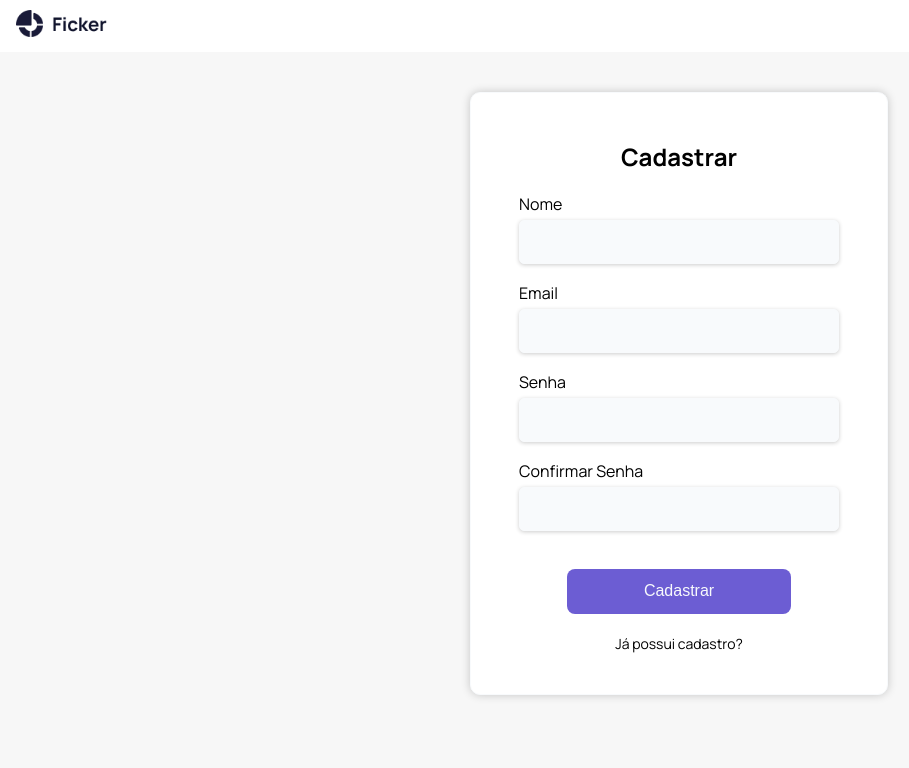
Test case: Create Account page › The password should be equal
Type "teste" into the field labelled "Nome" at (679, 242), box [519, 220, 839, 264]
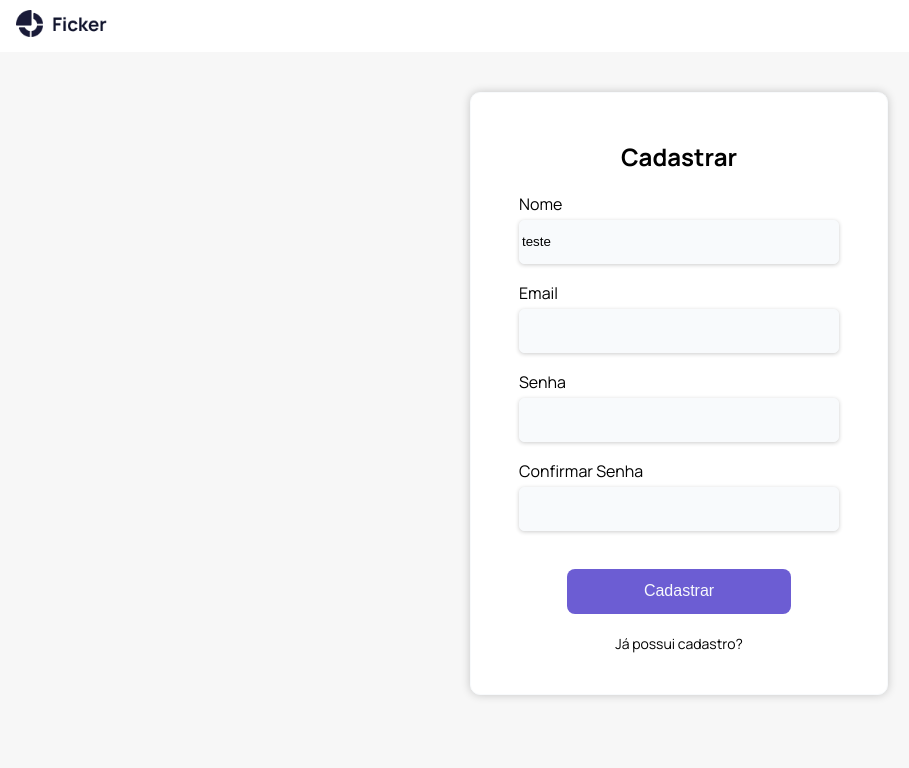
Type "teste@teste.com" into the field labelled "Email" at (679, 331), box [519, 309, 839, 353]
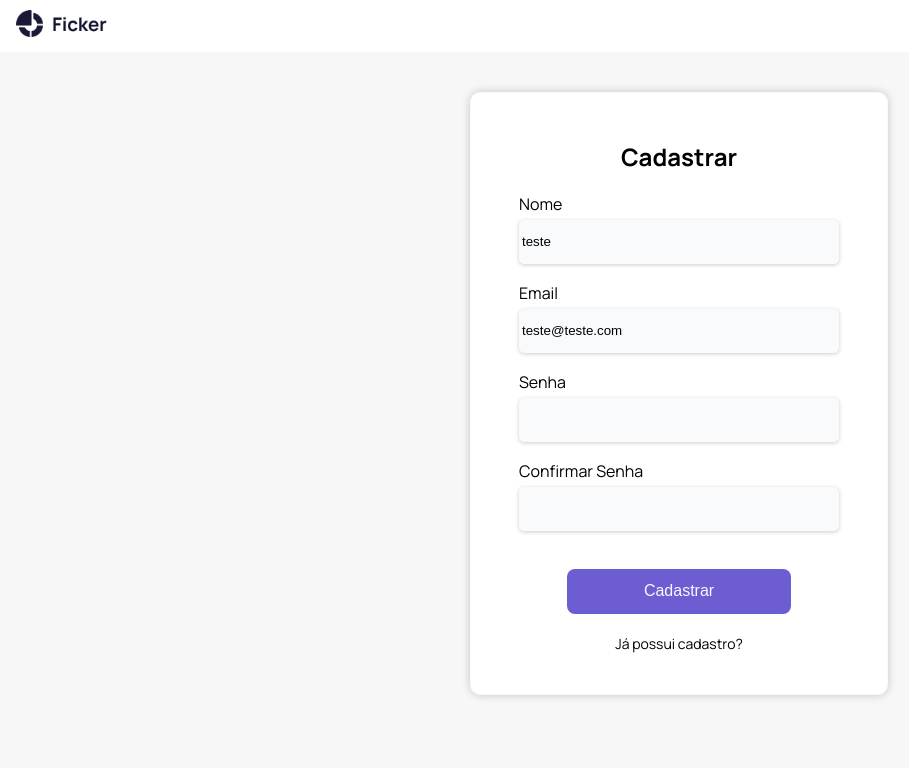
Type "1234" into the password field labelled "Senha" at (679, 420), box [519, 398, 839, 442]
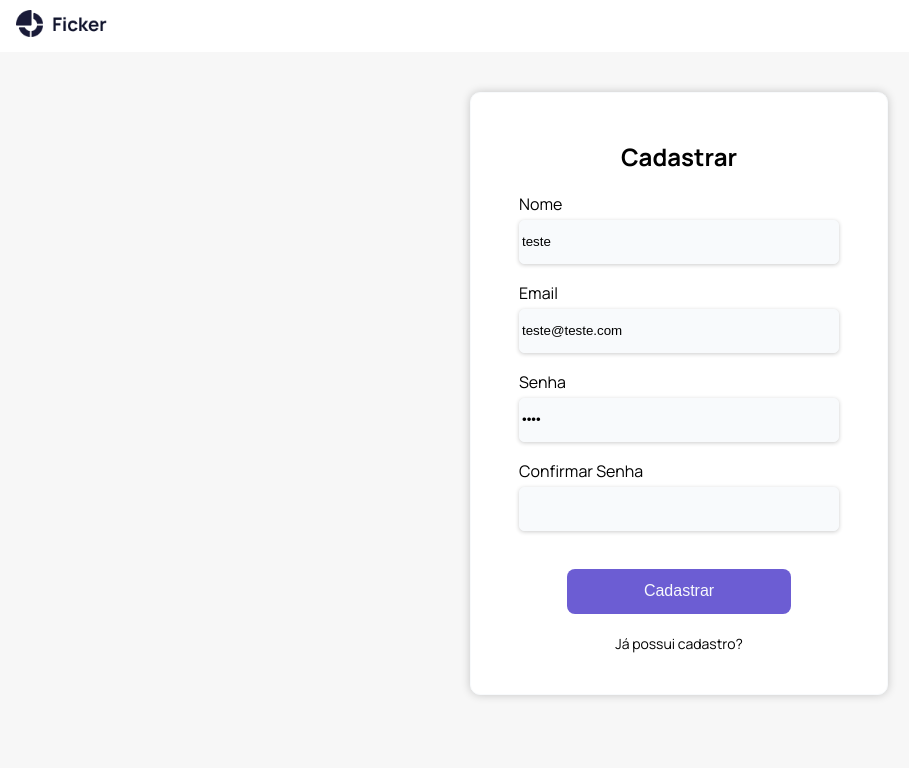
Type "1235" into the password field labelled "Confirmar Senha" at (679, 509), box [519, 487, 839, 531]
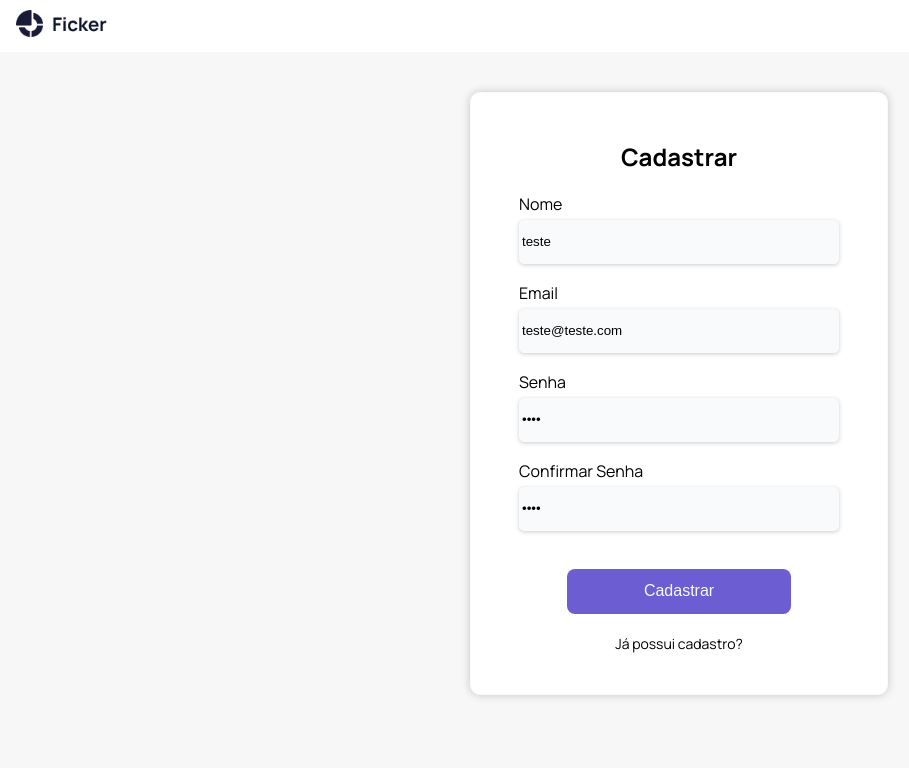
Click the button at (679, 591), box [567, 569, 791, 614]
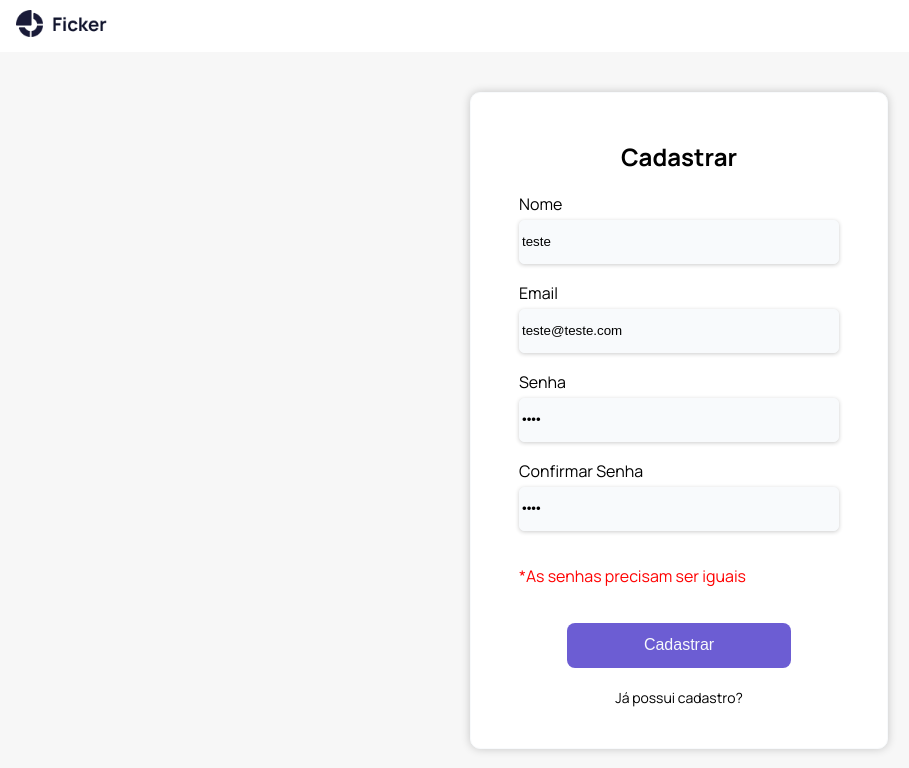
expect the text "*As senhas precisam ser iguais" is shown: met, box [519, 565, 746, 587]
